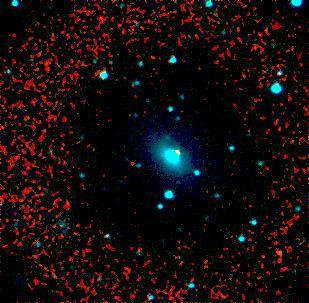star: (156, 137, 186, 167)
